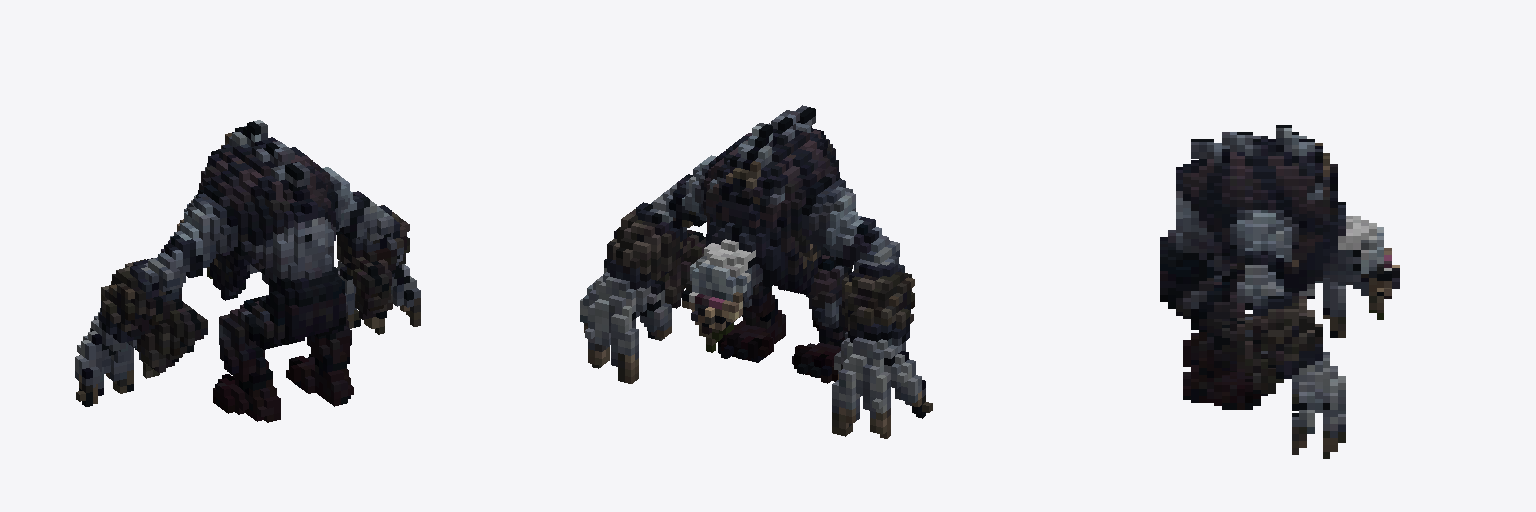
3 views of the same model, side by side, from view 1: azimuth 30°, elevation 25°; view 2: azimuth 150°, elevation 25°; view 3: azimuth 270°, elevation 25° (orthographic).
Visible parts, largest first — view 1: object 1; view 2: object 1; view 3: object 1.
Boxes of the visible parts, <box> form: object 1: <box>75,120,420,422</box>; object 1: <box>580,105,932,438</box>; object 1: <box>1160,125,1399,458</box>.
Bounding box in the file's own units: 5.1 × 3.7 × 3.1.
1 materials, 1 textured.